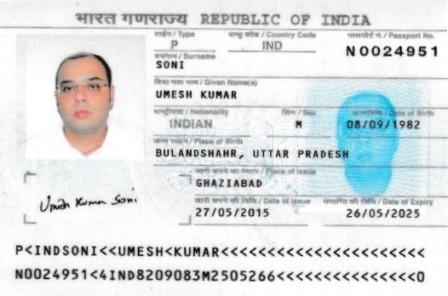DOB: (337, 115, 428, 130)
Surname: (150, 57, 196, 71)
country_code: (259, 35, 287, 51)
date_of_expiry: (332, 203, 426, 223)
date_of_issue: (192, 206, 289, 221)
details: (13, 245, 431, 293)
name: (153, 87, 240, 100)
nationality: (163, 114, 227, 130)
passport_no: (346, 42, 438, 59)
photo: (18, 35, 144, 164)
place_of_birth: (153, 146, 353, 159)
place_of_issue: (192, 177, 273, 191)
sex: (290, 117, 309, 131)
sign: (38, 187, 150, 218)
type: (166, 34, 184, 49)
